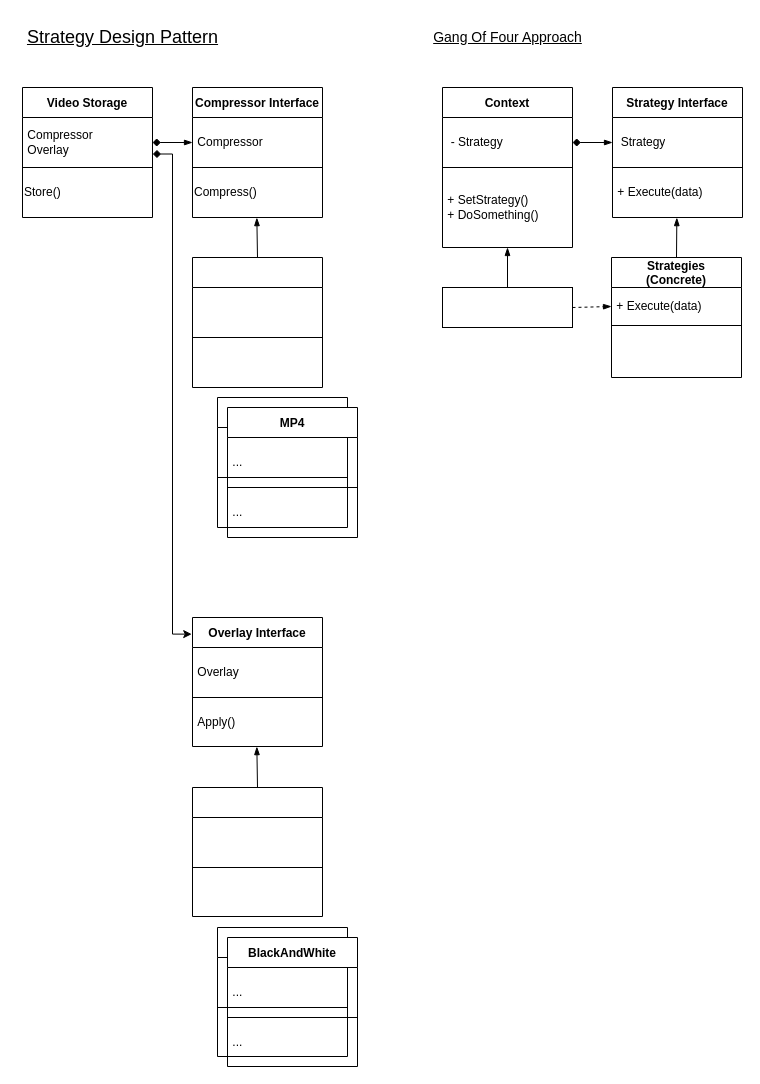
Some shapes in this 760 by 1084 pixel diagram are drawn without their labels. Here are the shapes that lost their labels. From the top down, the centre of each, then its label:
pixel 257 322: Compressors (Concrete)
pixel 507 307: Client
pixel 257 851: Overlays (Concrete)
